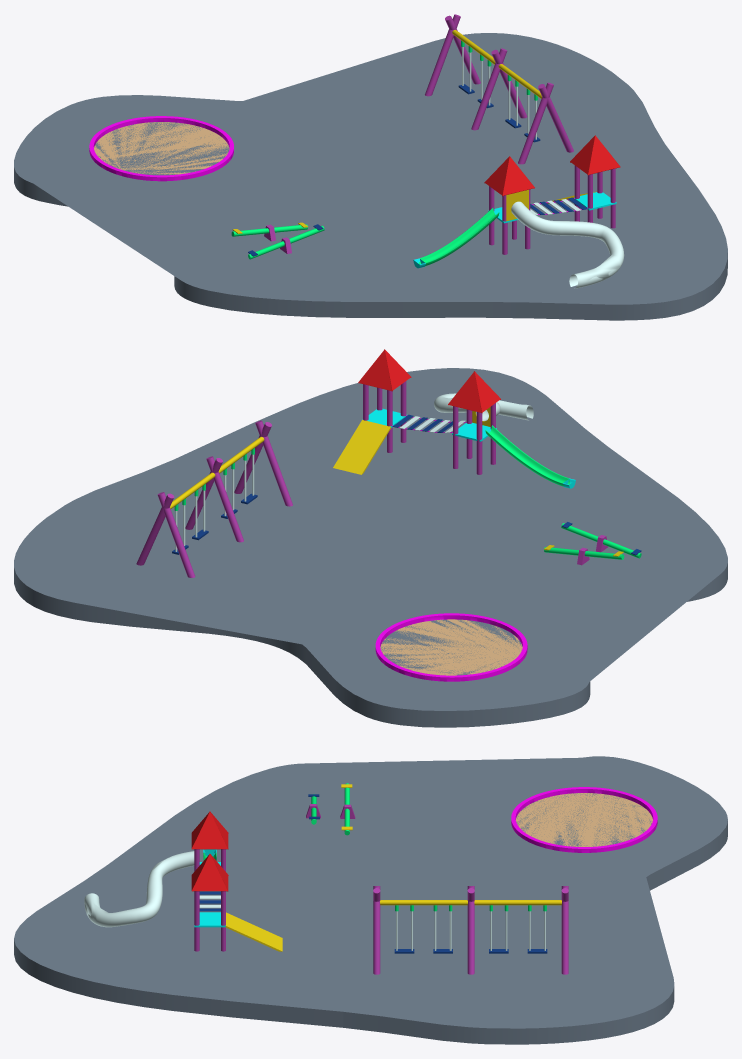
File: PARK.fbx
3 views of the same model, one above another, from view 1: azimuth 30°, elevation 25°; view 2: azimuth 150°, elevation 25°; view 3: azimuth 270°, elevation 25° (orthographic). The views are drawn at different scales.
Parts seen in each view (by area): view 1: park; view 2: park; view 3: park.
Boxes of the visible parts, x1,y1,x2,y2 form: park: (14,14,727,320); park: (14,349,727,727); park: (14,756,727,1044).
Size of the model in its own units: 28611 by 5260 by 31701.
Materials: 10 (10 with a texture image).
